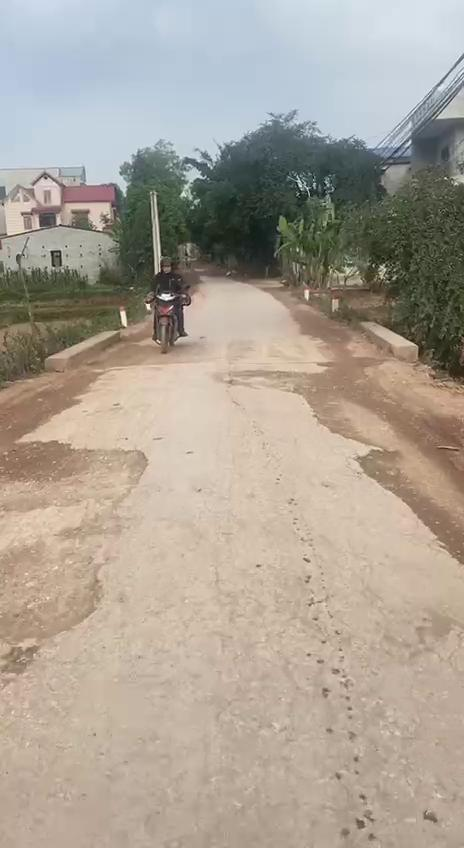pothole: (0, 540, 117, 640), (0, 441, 144, 516), (225, 367, 316, 394)
